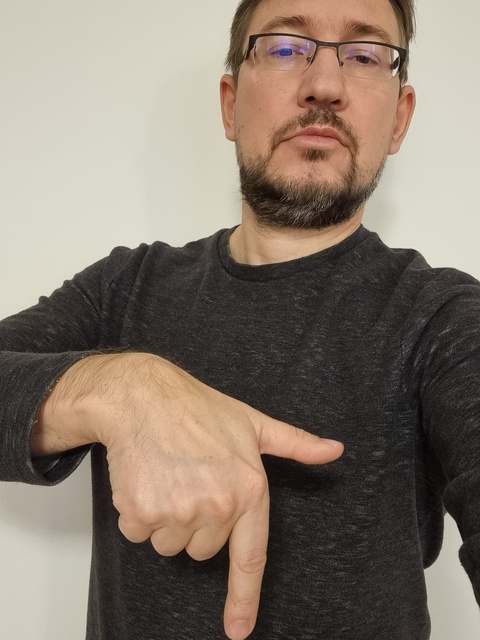GestDown: (116, 403, 342, 637)
